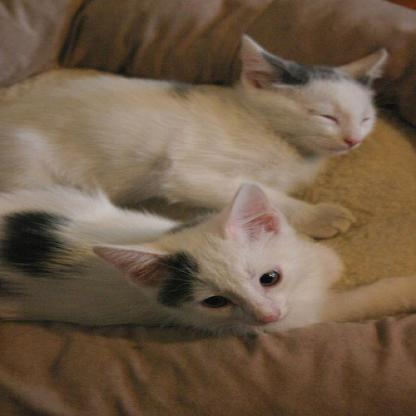cat: (17, 31, 391, 240), (0, 182, 339, 352)
